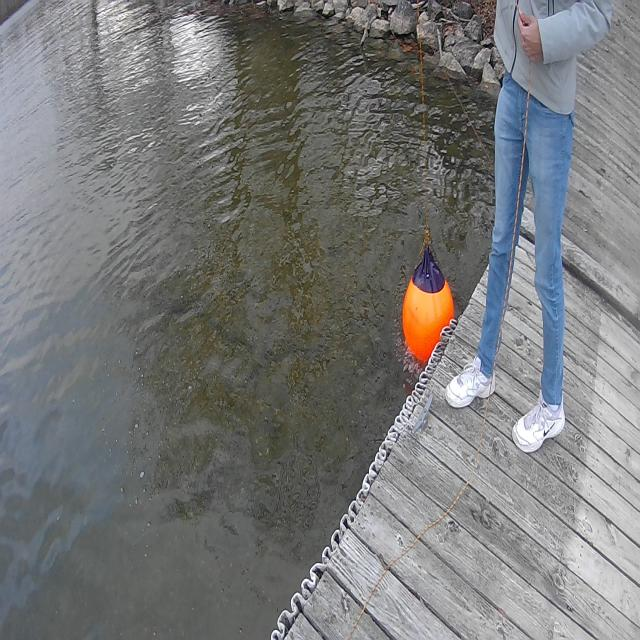Buoy: (398, 248, 464, 376)
